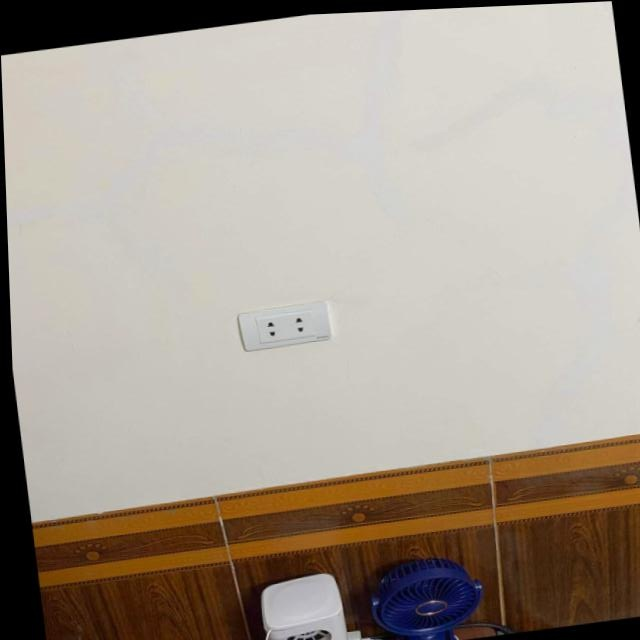outlet: (238, 298, 334, 352)
